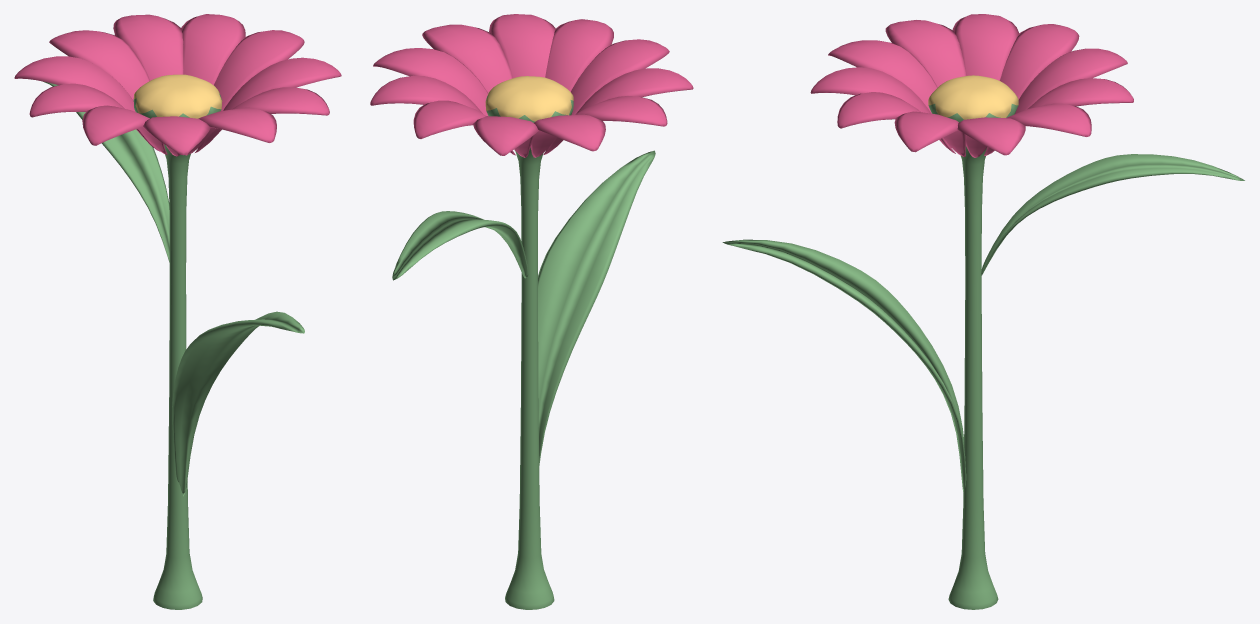
Rendered from flower.fbx.
3 renders of one model, left to right at view 1: azimuth 30°, elevation 25°; view 2: azimuth 150°, elevation 25°; view 3: azimuth 270°, elevation 25°, orthographic.
Parts seen in each view (by area): view 1: Petals, Root, Leaf2, Leaf; view 2: Petals, Root, Leaf2, Leaf; view 3: Petals, Root, Leaf2, Leaf.
Part boxes in pixels (x1,y1,x2,y2): Petals: (14,14,341,156); Root: (133,74,222,609); Leaf2: (172,311,304,496); Leaf: (43,81,169,262); Petals: (370,14,693,157); Root: (485,76,573,609); Leaf2: (538,150,655,465); Leaf: (392,211,528,280); Petals: (810,14,1133,157); Root: (928,75,1018,609); Leaf2: (722,239,966,493); Leaf: (981,154,1244,275).
Size of the model in its own units: 103 by 184 by 166.
